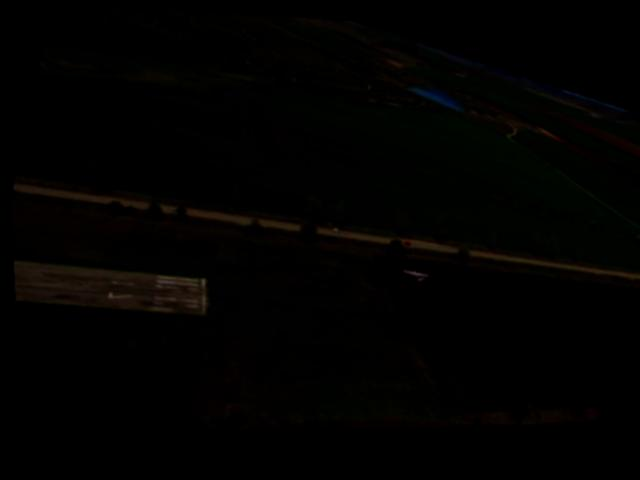uav: (396, 254, 435, 285)
